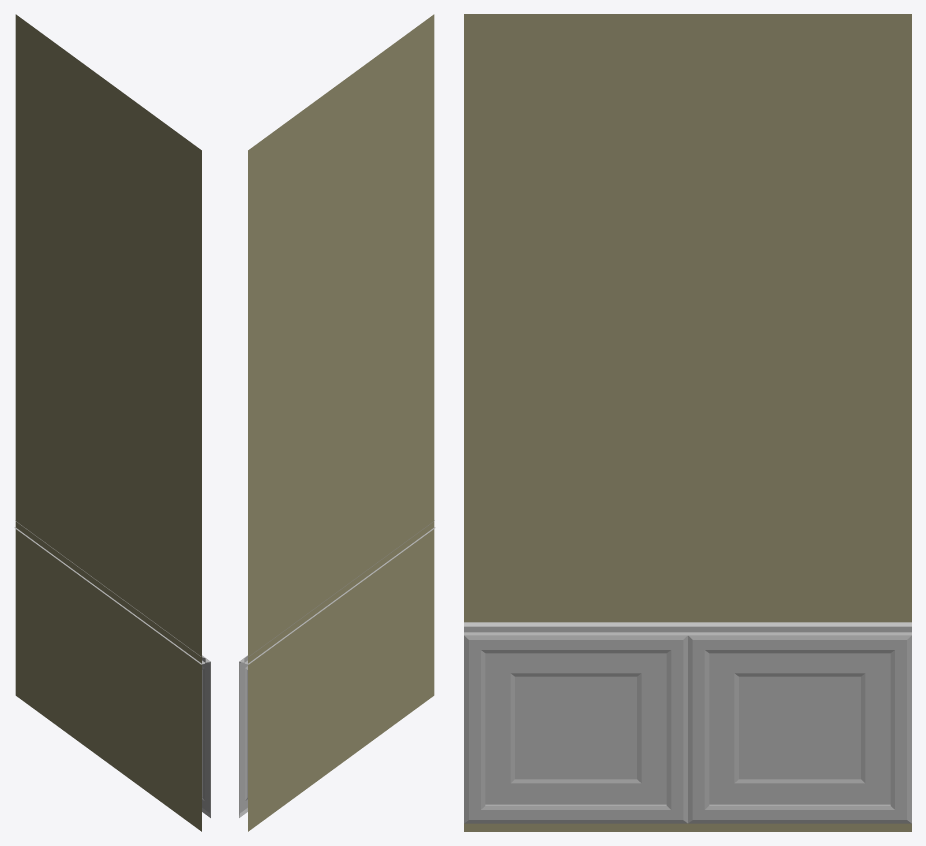
Rendered from Wall_1Unit_Mesh.fbx.
3 renders of one model, left to right at view 1: azimuth 30°, elevation 25°; view 2: azimuth 150°, elevation 25°; view 3: azimuth 270°, elevation 25°, orthographic. The views are drawn at different scales.
Parts seen in each view (by area): view 1: Wall_1Unit_Mesh; view 2: Wall_1Unit_Mesh; view 3: Wall_1Unit_Mesh.
Boxes of the visible parts, x1,y1,x2,y2 form: Wall_1Unit_Mesh: (14,14,210,831); Wall_1Unit_Mesh: (239,14,435,831); Wall_1Unit_Mesh: (464,14,911,831).
Bounding box in the file's own units: 10.54 × 605 × 300.
